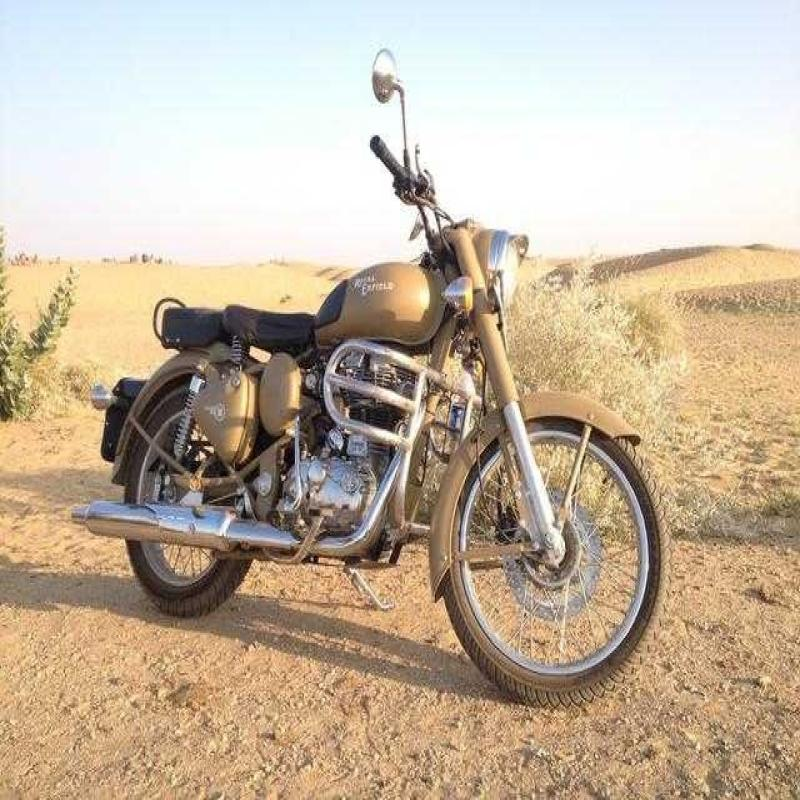bike: (59, 36, 682, 703)
